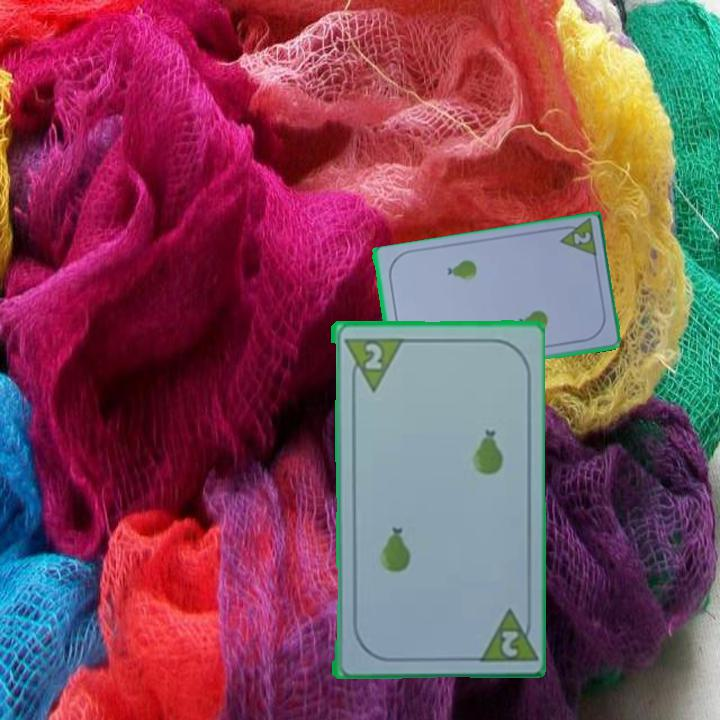2p: (553, 217, 600, 261), (361, 339, 385, 372), (497, 626, 520, 659)
